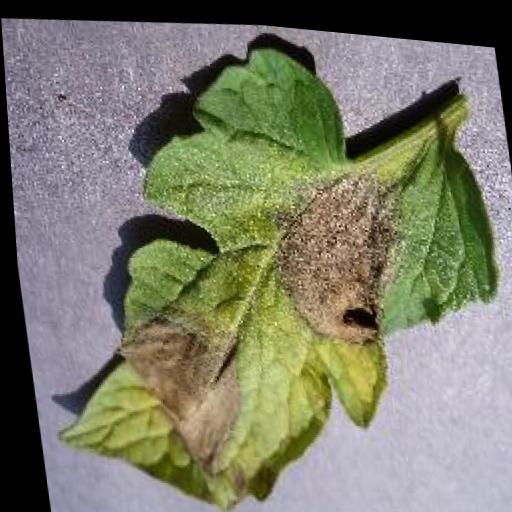Late Blight: (0, 4, 512, 512)
